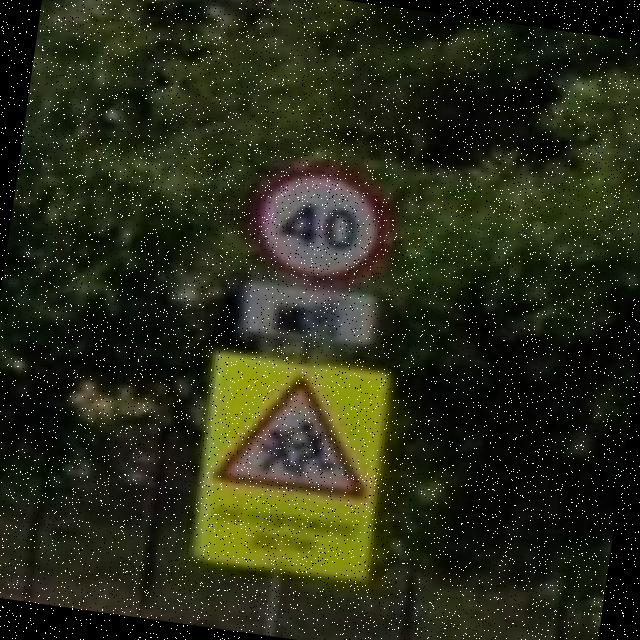Dzieci: (210, 366, 380, 504)
Ograniczenie predkosci do 40: (244, 156, 396, 290)
